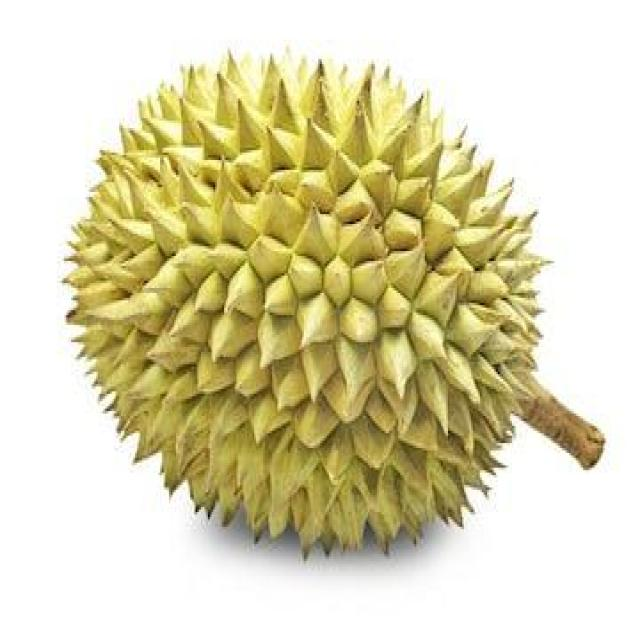immature: (62, 44, 555, 566)
